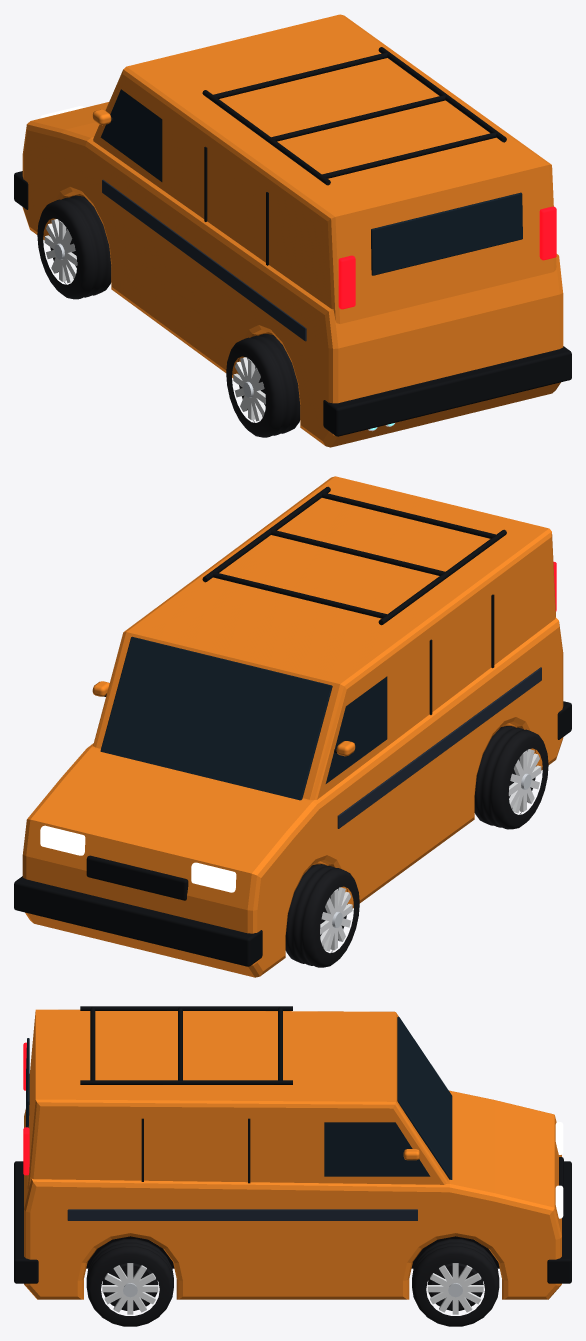
File: courier-van.glb
The picture shows the model from 3 angles, top to bottom: view 1: azimuth 30°, elevation 25°; view 2: azimuth 150°, elevation 25°; view 3: azimuth 270°, elevation 25°; orthographic projection. The views are drawn at different scales.
Parts seen in each view (by area): view 1: Cabin, Body, Tire (×2), RearBumper, RearWindow, SideGlass, RackBar (×3), SideStripe, RackRail (×2), TailLight (×2); view 2: Body, Cabin, Windscreen, Tire (×2), FrontBumper, RackBar (×3), SideGlass, SideStripe, Grille, Headlight (×2), RackRail (×2); view 3: Cabin, Body, Tire (×2), Windscreen, SideGlass, SideStripe, RackRail (×2), RearBumper, FrontBumper, RimDish (×2), RackBar.
Boxes of the visible parts, x1,y1,x2,y2 form: Cabin: [93, 14, 556, 323]; Body: [22, 102, 563, 447]; Tire (×2): [37, 195, 300, 437]; RearBumper: [323, 346, 571, 436]; RearWindow: [371, 192, 522, 275]; SideGlass: [100, 89, 162, 181]; RackBar (×3): [212, 52, 496, 178]; SideStripe: [102, 179, 306, 341]; RackRail (×2): [202, 47, 506, 185]; TailLight (×2): [338, 206, 556, 309]; Body: [22, 617, 563, 977]; Cabin: [93, 476, 555, 799]; Windscreen: [100, 636, 332, 800]; Tire (×2): [285, 726, 548, 967]; FrontBumper: [14, 876, 262, 966]; RackBar (×3): [212, 492, 496, 618]; SideGlass: [325, 676, 387, 783]; SideStripe: [337, 667, 541, 828]; Grille: [86, 855, 188, 900]; Headlight (×2): [40, 825, 236, 892]; RackRail (×2): [202, 486, 506, 625]; Cabin: [27, 1009, 448, 1188]; Body: [24, 1090, 561, 1299]; Tire (×2): [86, 1239, 499, 1326]; Windscreen: [397, 1016, 452, 1179]; SideGlass: [324, 1122, 430, 1176]; SideStripe: [67, 1209, 417, 1220]; RackRail (×2): [80, 1006, 292, 1084]; RearBumper: [14, 1161, 38, 1283]; FrontBumper: [547, 1161, 571, 1283]; RimDish (×2): [102, 1263, 483, 1310]; RackBar: [90, 1006, 95, 1080].
Size of the model in its own units: 2.23 by 2.01 by 4.46.
